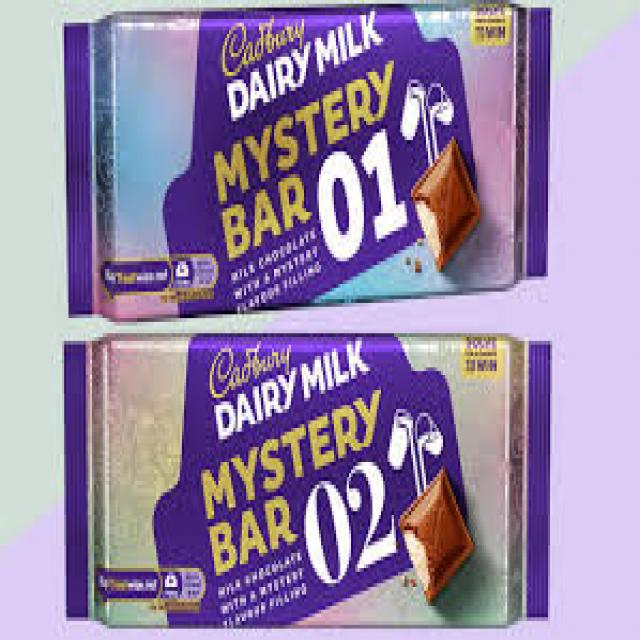cadbury: (60, 9, 552, 306), (61, 337, 547, 632)
